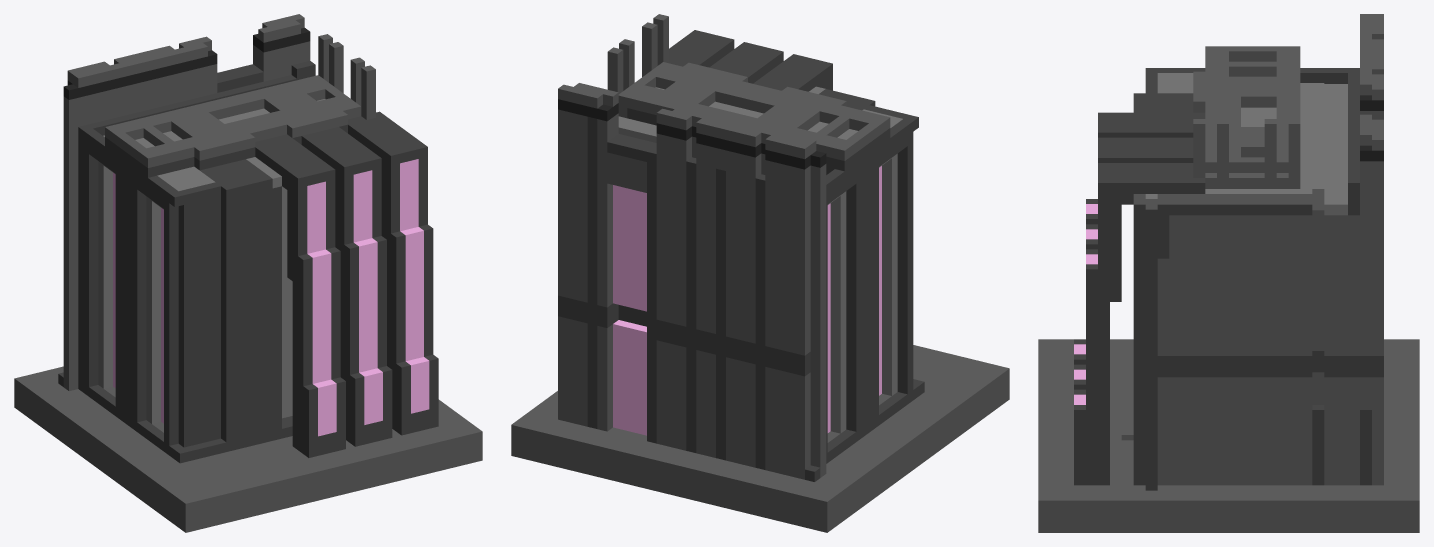
Rendered from _g_logistic_3.obj.
3 renders of one model, left to right at view 1: azimuth 30°, elevation 25°; view 2: azimuth 150°, elevation 25°; view 3: azimuth 270°, elevation 25°, orthographic. The views are drawn at different scales.
Bounding box in the file's own units: 3.2 × 3.6 × 3.2.
